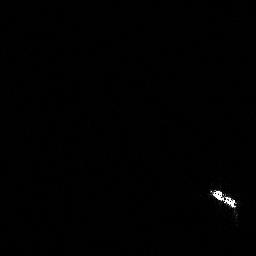ship: (206, 183, 241, 218)
